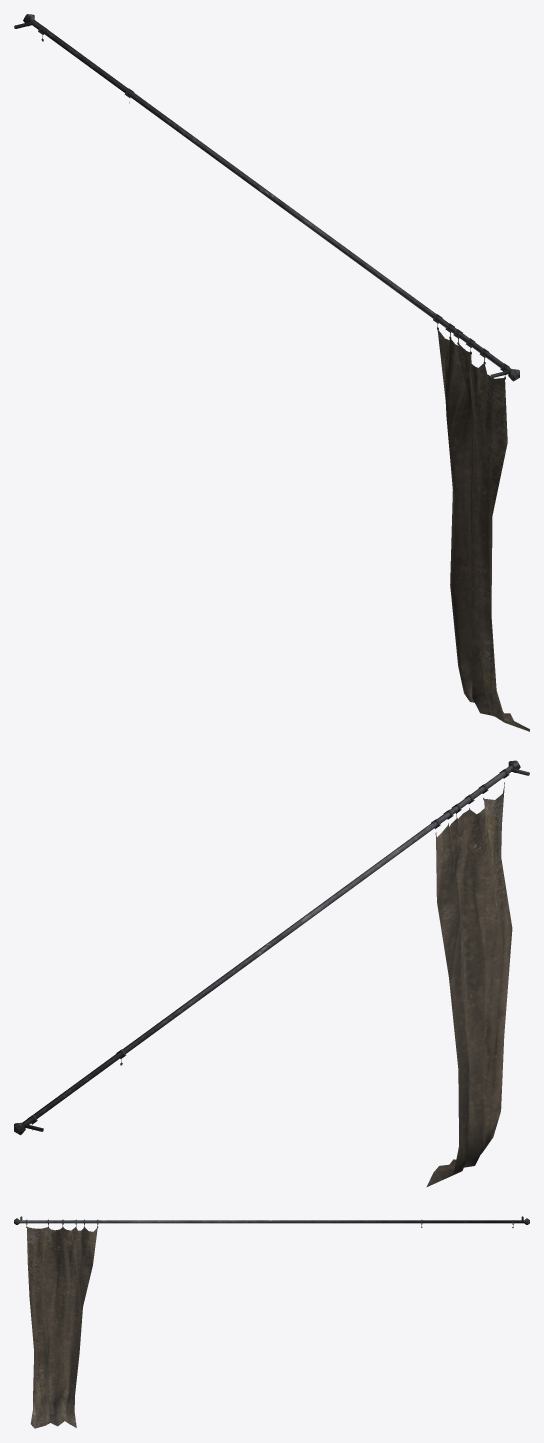
The model's file is Double_Long_CheapCurtainSet_T01.FBX.
3 renders of one model, top to bottom at view 1: azimuth 30°, elevation 25°; view 2: azimuth 150°, elevation 25°; view 3: azimuth 270°, elevation 25°, orthographic. The views are drawn at different scales.
Visible parts, largest first — view 1: Double_Long_CheapCurtainSet_T01; view 2: Double_Long_CheapCurtainSet_T01; view 3: Double_Long_CheapCurtainSet_T01.
Part boxes in pixels (x1,y1,x2,y2): Double_Long_CheapCurtainSet_T01: (14,14,529,731); Double_Long_CheapCurtainSet_T01: (14,760,529,1187); Double_Long_CheapCurtainSet_T01: (14,1216,529,1428).
Bounding box in the file's own units: 36.41 × 261 × 605.
